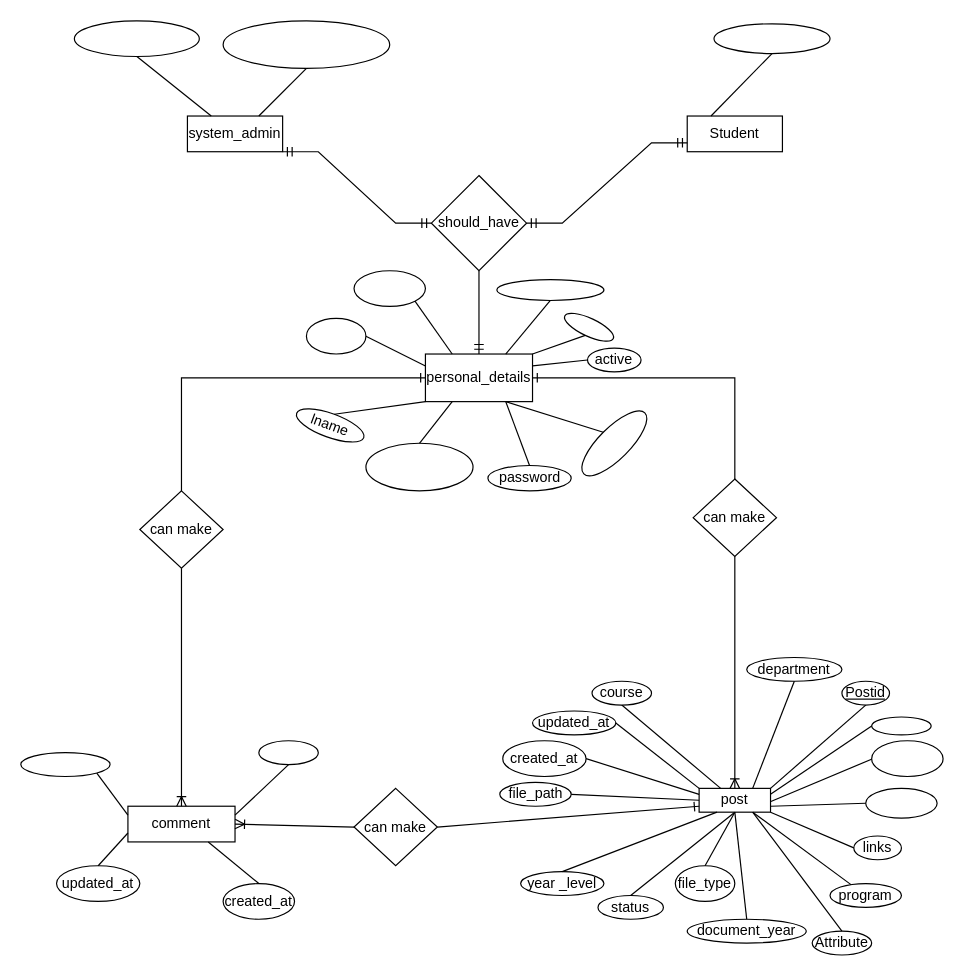
Image size: 964x976. Some labels were removed from this diagram. Each missing label, with the centre of its shape:
"commentid" belongs at point 65,763.
"content" belongs at point 288,752.
"description" belongs at point 906,758.
"email" belongs at point 588,326.
"Examlevel" belongs at point 901,802.
"fname" belongs at point 389,288.
"mname" belongs at point 335,335.
"Personalid" belongs at point 550,289.
"phone_number" belongs at point 419,466.
"profilepicture" belongs at point 613,442.
"registration_id" belongs at point 771,38.
"SystemAdminId" belongs at point 136,38.
"SytesmAdmin_username" belongs at point 306,44.
"title" belongs at point 900,725.
